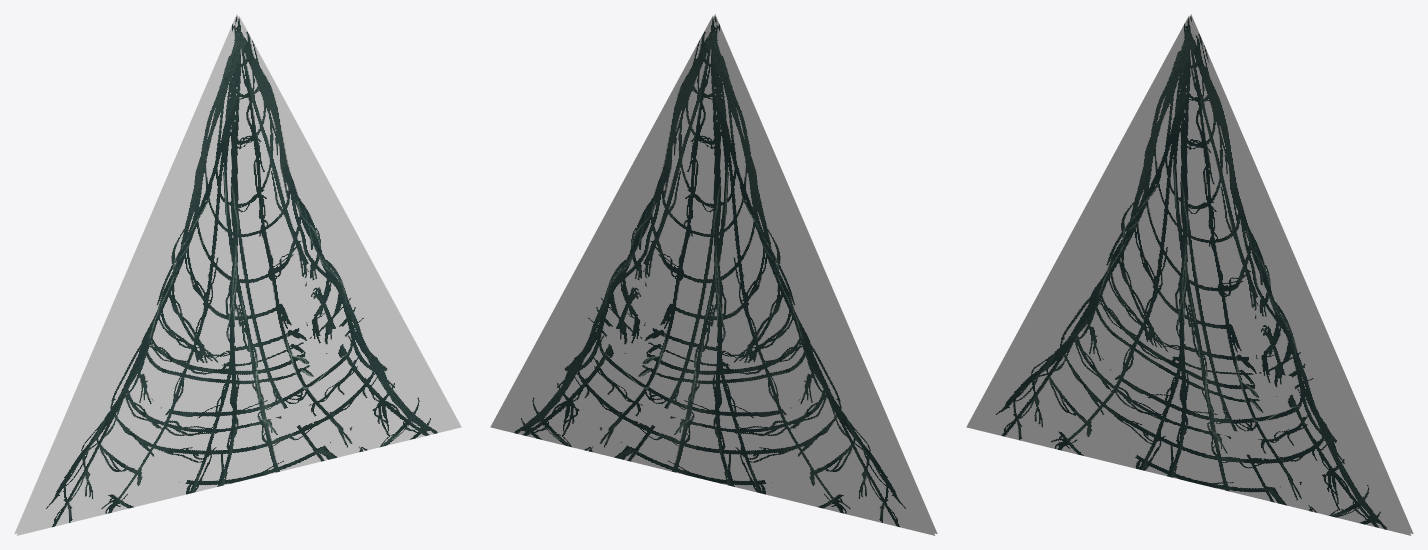
File: Fish_net01.fbx
The picture shows the model from 3 angles, left to right: view 1: azimuth 30°, elevation 25°; view 2: azimuth 150°, elevation 25°; view 3: azimuth 330°, elevation 25°; orthographic projection.
Parts seen in each view (by area): view 1: Fish_net01; view 2: Fish_net01; view 3: Fish_net01.
Part boxes in pixels (x1=…): Fish_net01: x1=14, y1=14, x2=461, y2=535; Fish_net01: x1=490, y1=14, x2=937, y2=535; Fish_net01: x1=966, y1=14, x2=1413, y2=535.
Bounding box in the file's own units: 2 × 2 × 0.0182.
Materials: 1 (1 with a texture image).
